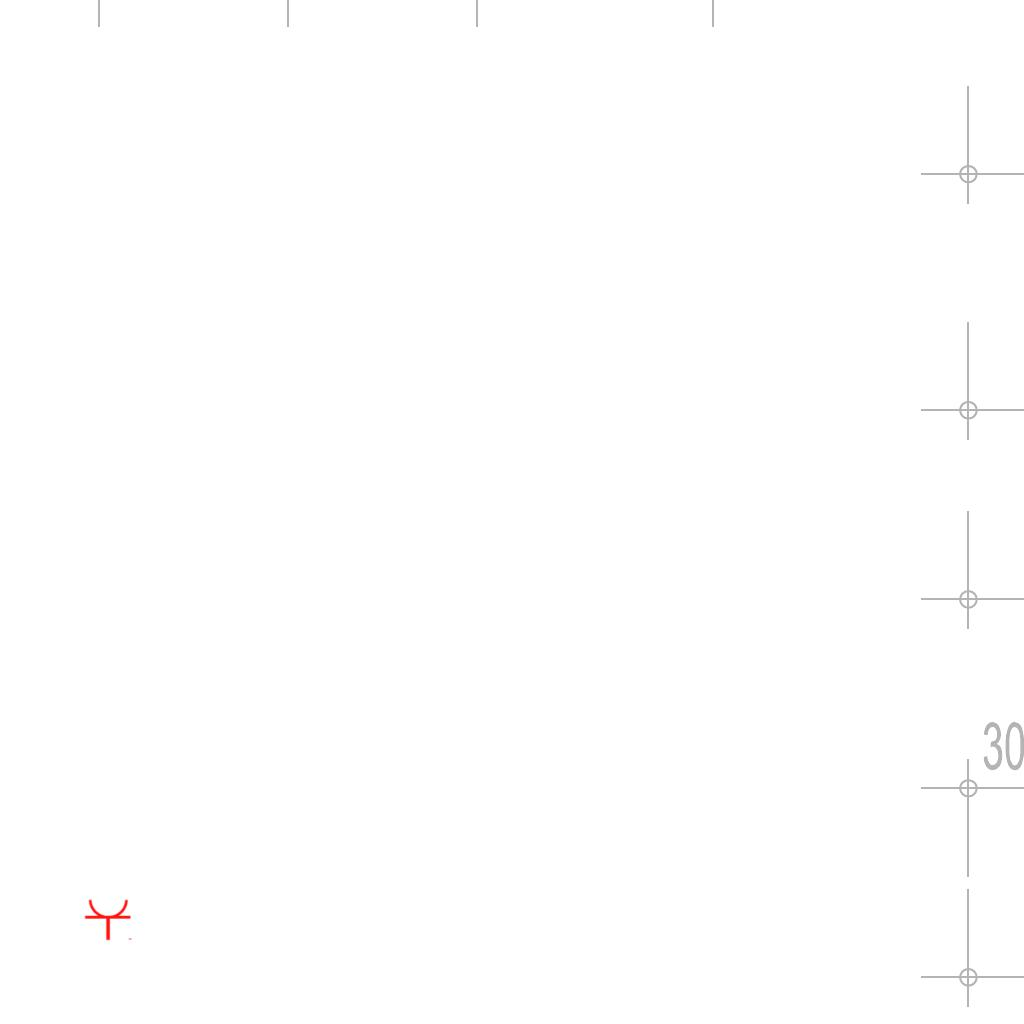Schukosteckdose_einfach: (84, 898, 134, 941)
